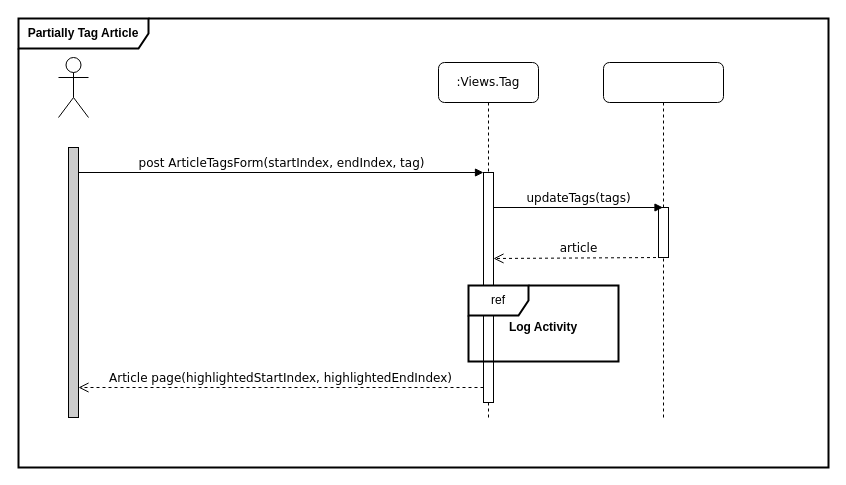
This 846x485 diagram has some shape labels left out. The shapes that lost their labels are listed below. From the top down, each one's centre as x and y in pixels, then its label:
the point at 73,87: User
the point at 663,240: :Models.Article
